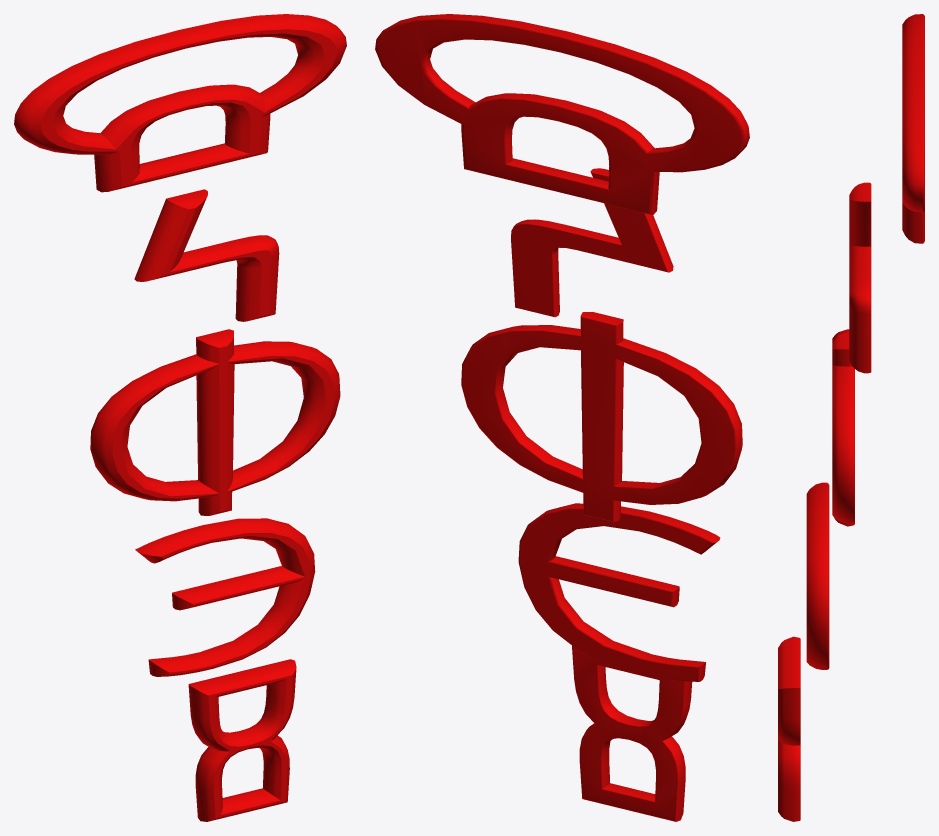
Rendered from Text_sign_16.fbx.
3 views of the same model, side by side, from view 1: azimuth 30°, elevation 25°; view 2: azimuth 150°, elevation 25°; view 3: azimuth 270°, elevation 25° (orthographic). The views are drawn at different scales.
Visible parts, largest first — view 1: Text_sign_16; view 2: Text_sign_16; view 3: Text_sign_16.
Part boxes in pixels (x1=…): Text_sign_16: x1=14, y1=14, x2=346, y2=821; Text_sign_16: x1=375, y1=14, x2=749, y2=821; Text_sign_16: x1=778, y1=14, x2=924, y2=821.
Bounding box in the file's own units: 41.78 × 88.84 × 15.99.
